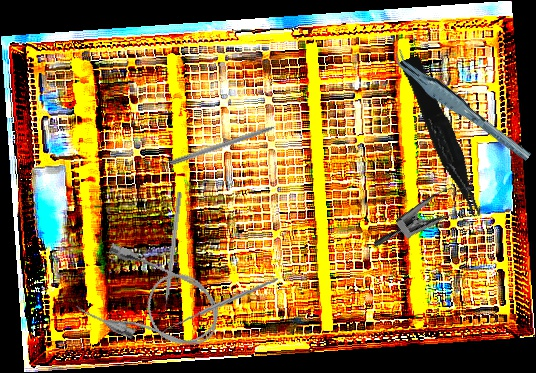Cannula: (72, 239, 232, 367)
Chopper: (155, 191, 183, 318)
Hook Surgical: (161, 266, 278, 350), (169, 119, 290, 168)
Speculum: (371, 163, 493, 283)
Tissue Forceps: (389, 36, 533, 177), (399, 52, 485, 222)
